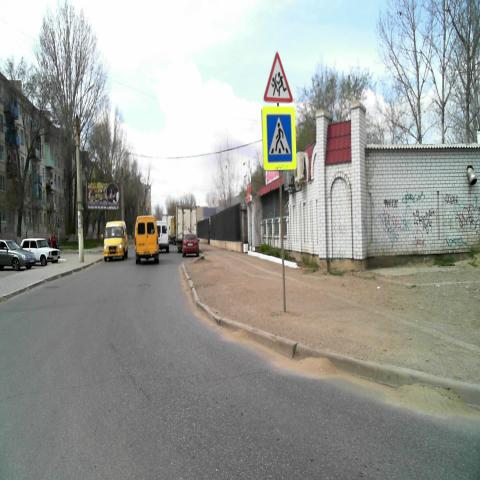1_23: (262, 49, 294, 103)
5_19_1: (262, 105, 297, 170)
